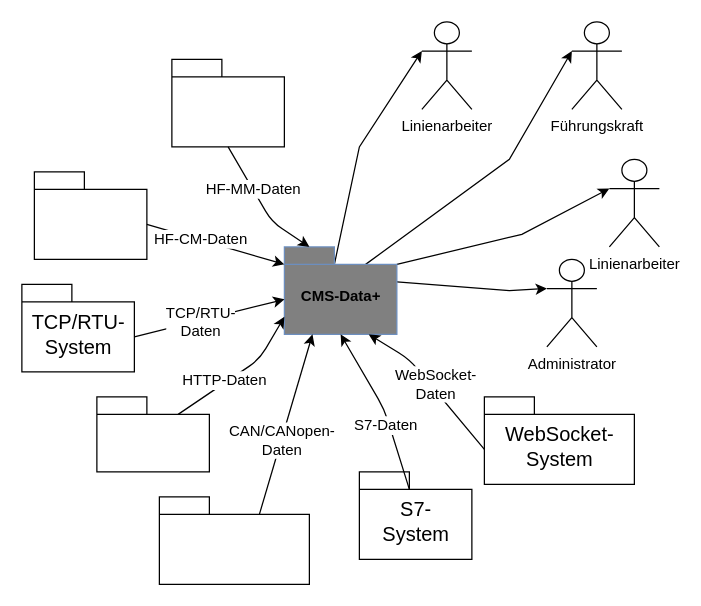
The diagram is 701 pixels wide and 606 high, and some of its shapes have lost their labels. Here are the shapes that lost their labels. From the top down, the box of each, then its label:
(171, 58, 284, 147): HFI-MM- System
(33, 171, 147, 259): HFI-CM - System
(96, 396, 209, 472): HTTP - System
(158, 496, 309, 584): CAN/CANopen - System
